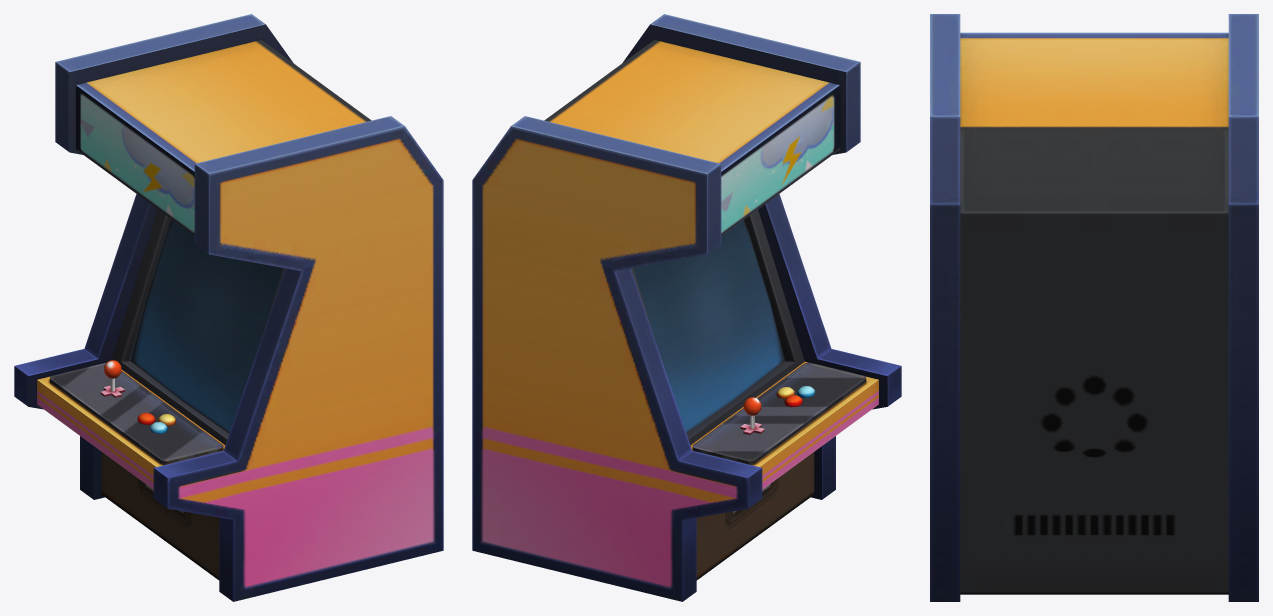
Rendered from my_gamecenter_01_p_gamemachine_01.glb.
3 views of the same model, side by side, from view 1: azimuth 30°, elevation 25°; view 2: azimuth 150°, elevation 25°; view 3: azimuth 270°, elevation 25° (orthographic). The views are drawn at different scales.
Visible parts, largest first — view 1: my_gamecenter_01_p_gamemachine_01; view 2: my_gamecenter_01_p_gamemachine_01; view 3: my_gamecenter_01_p_gamemachine_01.
Part boxes in pixels (bbox=[...]): my_gamecenter_01_p_gamemachine_01: bbox=[14, 14, 443, 601]; my_gamecenter_01_p_gamemachine_01: bbox=[472, 14, 901, 601]; my_gamecenter_01_p_gamemachine_01: bbox=[930, 14, 1258, 601].
Size of the model in its own units: 0.00977 by 0.0147 by 0.00941.
Materials: 1 (1 with a texture image).
